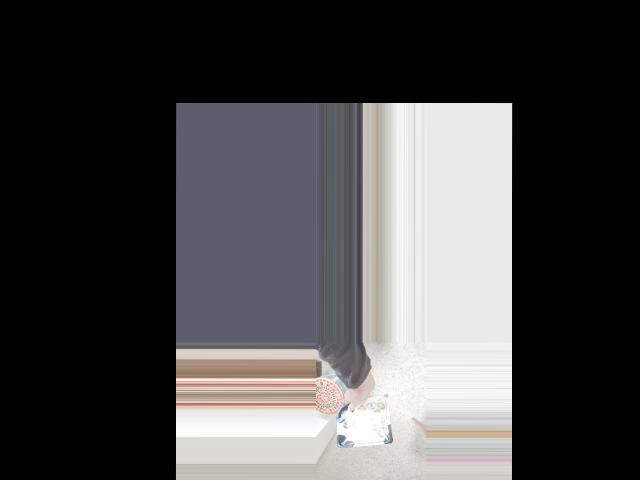cheese: (335, 375, 391, 436)
